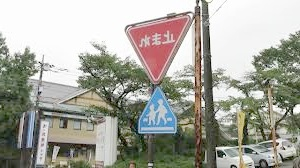Regulatory_sign_triangle: (120, 12, 191, 85)
